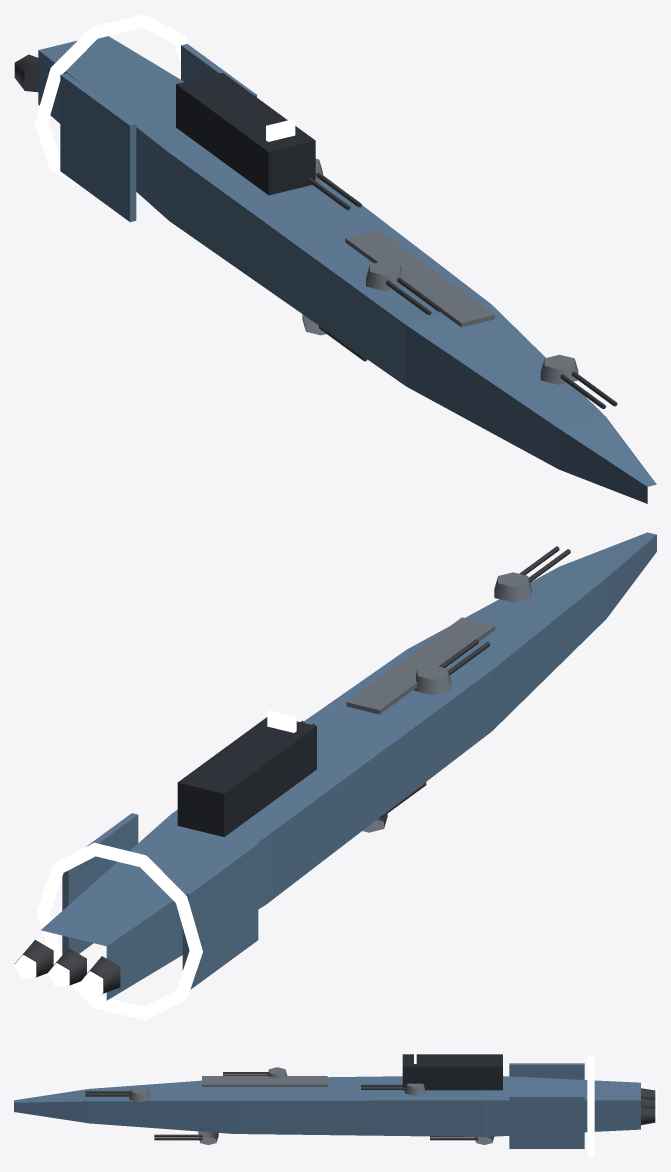
The model's file is space_ship_frigate_mk6_lod1.glb.
3 renders of one model, top to bottom at view 1: azimuth 30°, elevation 25°; view 2: azimuth 150°, elevation 25°; view 3: azimuth 270°, elevation 25°, orthographic. The views are drawn at different scales.
Visible parts, largest first — view 1: body, turret_0, turret_2, engine_0, turret_4; view 2: body, turret_0, turret_2, engine_0, engine_2, engine_1; view 3: body, turret_1, turret_0, turret_4, turret_2, turret_5, engine_2.
Part boxes in pixels (x1=…): body: x1=34, y1=14, x2=656, y2=503; turret_0: x1=540, y1=354, x2=617, y2=408; turret_2: x1=366, y1=261, x2=441, y2=315; engine_0: x1=14, y1=54, x2=38, y2=92; turret_4: x1=308, y1=159, x2=361, y2=210; body: x1=37, y1=532, x2=656, y2=1020; turret_0: x1=494, y1=546, x2=570, y2=602; turret_2: x1=414, y1=639, x2=489, y2=695; engine_0: x1=81, y1=956, x2=120, y2=994; engine_2: x1=14, y1=940, x2=53, y2=978; engine_1: x1=47, y1=948, x2=86, y2=986; body: x1=14, y1=1049, x2=640, y2=1157; turret_1: x1=154, y1=1131, x2=218, y2=1144; turret_0: x1=85, y1=1086, x2=149, y2=1102; turret_4: x1=361, y1=1083, x2=425, y2=1095; turret_2: x1=223, y1=1067, x2=287, y2=1078; turret_5: x1=430, y1=1136, x2=493, y2=1144; engine_2: x1=641, y1=1106, x2=656, y2=1125.
Bounding box in the file's own units: 7.96 × 8.3 × 49.22.
